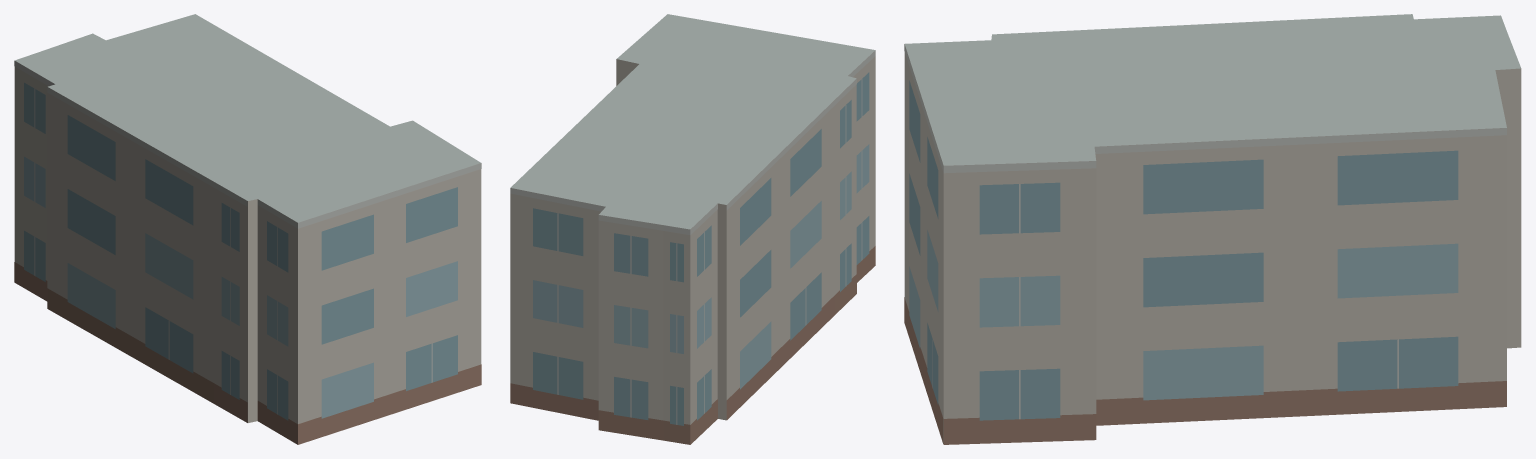
Rendered from survey-upis-32785377.glb.
3 renders of one model, left to right at view 1: azimuth 30°, elevation 25°; view 2: azimuth 150°, elevation 25°; view 3: azimuth 270°, elevation 25°, orthographic. The views are drawn at different scales.
Visible parts, largest first — view 1: survey-upis-32785377.tmp; view 2: survey-upis-32785377.tmp; view 3: survey-upis-32785377.tmp.
Part boxes in pixels (x1=…): survey-upis-32785377.tmp: x1=14, y1=14, x2=481, y2=444; survey-upis-32785377.tmp: x1=510, y1=14, x2=875, y2=444; survey-upis-32785377.tmp: x1=904, y1=14, x2=1521, y2=444.
Bounding box in the file's own units: 10.68 × 9.15 × 18.34.
